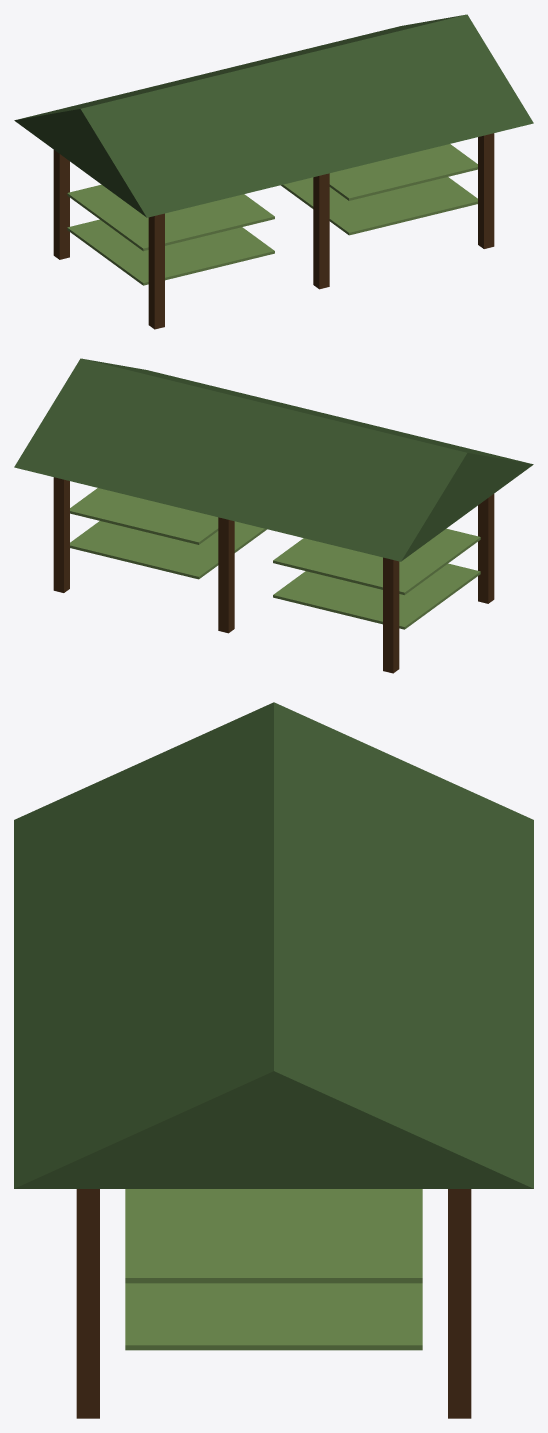
The model's file is tea_drying_shed.glb.
3 renders of one model, top to bottom at view 1: azimuth 30°, elevation 25°; view 2: azimuth 150°, elevation 25°; view 3: azimuth 270°, elevation 25°, orthographic. The views are drawn at different scales.
Parts seen in each view (by area): view 1: model; view 2: model; view 3: model.
Boxes of the visible parts, x1,y1,x2,y2 form: model: (14, 14, 533, 329); model: (14, 358, 533, 673); model: (14, 702, 533, 1418).
Bounding box in the file's own units: 9.4 × 4.4 × 5.6.
